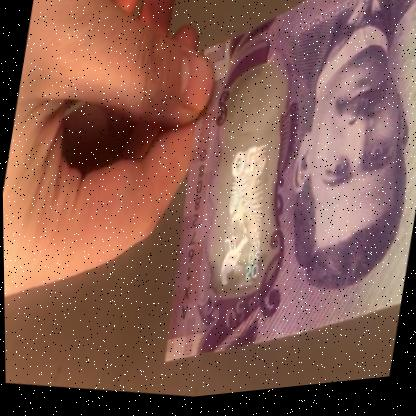50F: (198, 79, 292, 300)
